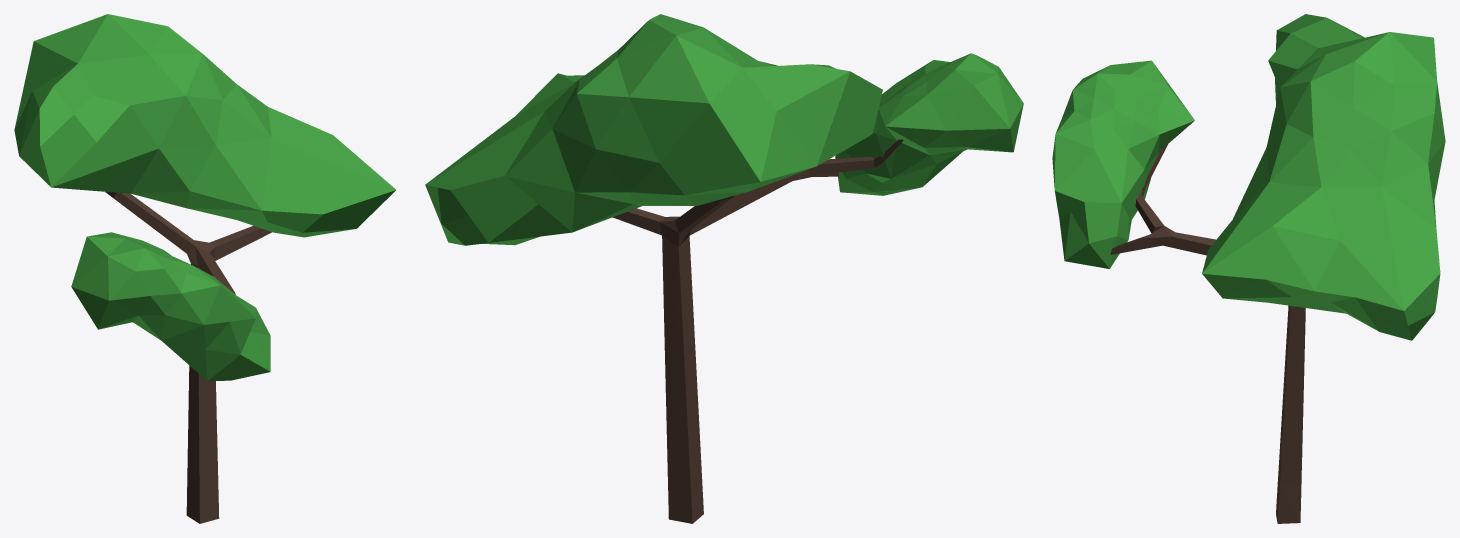
Rendered from tree_02_small.fbx.
3 renders of one model, left to right at view 1: azimuth 30°, elevation 25°; view 2: azimuth 150°, elevation 25°; view 3: azimuth 270°, elevation 25°, orthographic. The views are drawn at different scales.
Parts seen in each view (by area): view 1: leafs, branch; view 2: leafs, branch, branch_up; view 3: leafs, branch, branch_up, trunk.
Part boxes in pixels (<box>): leafs: <box>14,14,395,381</box>; branch: <box>105,191,271,523</box>; leafs: <box>425,14,1023,245</box>; branch: <box>613,139,903,523</box>; branch_up: <box>662,237,690,474</box>; leafs: <box>1052,14,1445,340</box>; branch: <box>1110,144,1305,523</box>; branch_up: <box>1280,306,1304,485</box>; trunk: <box>1276,484,1301,523</box>.
Size of the model in its own units: 178 by 211 by 162.
